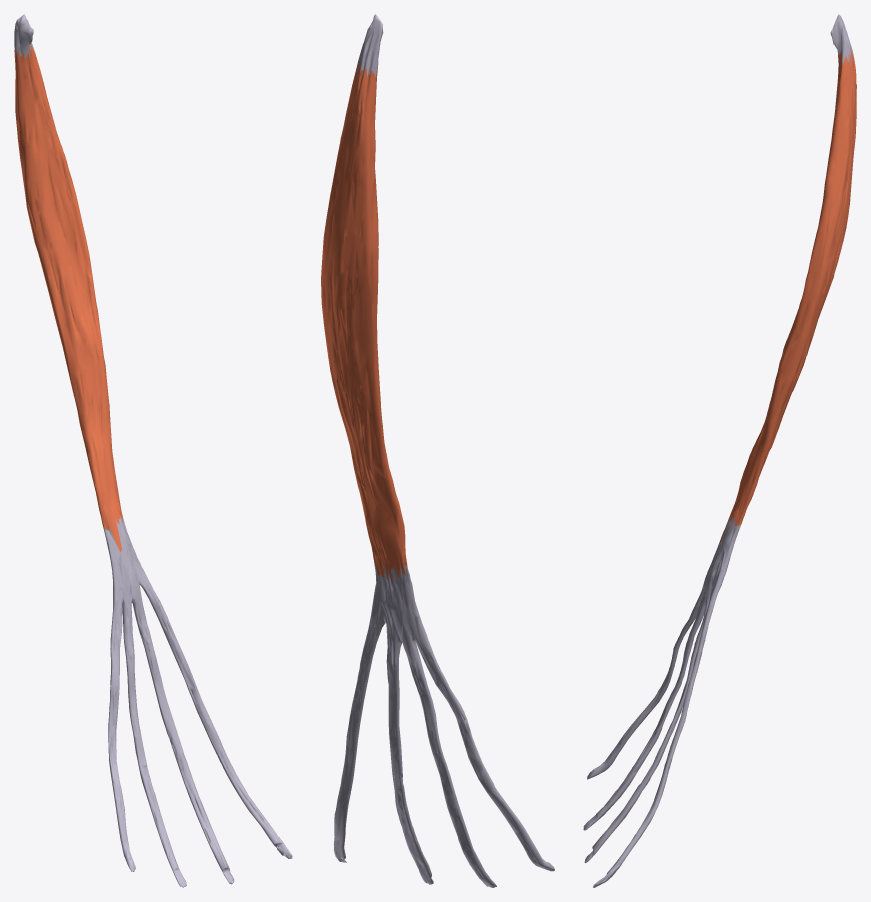
Rendered from Extensor_digitorum.l_Generated_Mesh_From_X3D.971.glb.
The picture shows the model from 3 angles, left to right: view 1: azimuth 30°, elevation 25°; view 2: azimuth 150°, elevation 25°; view 3: azimuth 270°, elevation 25°; orthographic projection. The views are drawn at different scales.
Visible parts, largest first — view 1: Extensor_digitorum.l_Generated_Mesh_From_X3D.971; view 2: Extensor_digitorum.l_Generated_Mesh_From_X3D.971; view 3: Extensor_digitorum.l_Generated_Mesh_From_X3D.971.
Part boxes in pixels (x1,y1,x2,y2): Extensor_digitorum.l_Generated_Mesh_From_X3D.971: (14, 14, 292, 887); Extensor_digitorum.l_Generated_Mesh_From_X3D.971: (321, 14, 554, 887); Extensor_digitorum.l_Generated_Mesh_From_X3D.971: (583, 14, 856, 887).
Bounding box in the file's own units: 0.0853 × 0.3946 × 0.1212.
